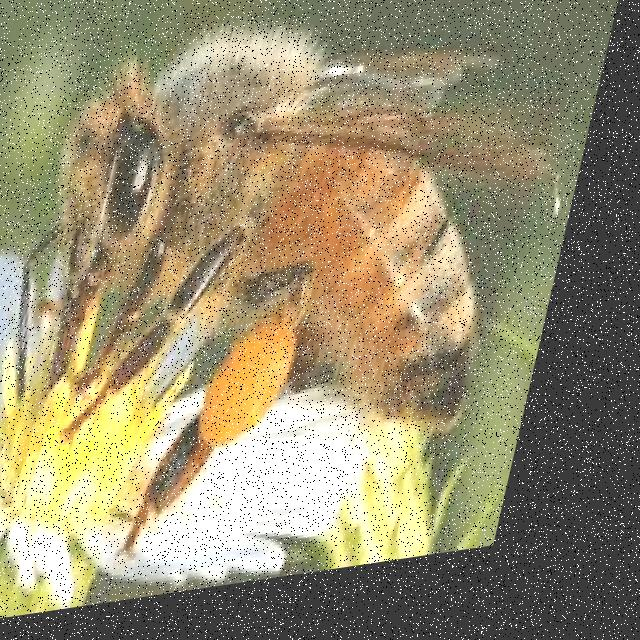Apis-mellifera-scutellata: (0, 0, 596, 585)
